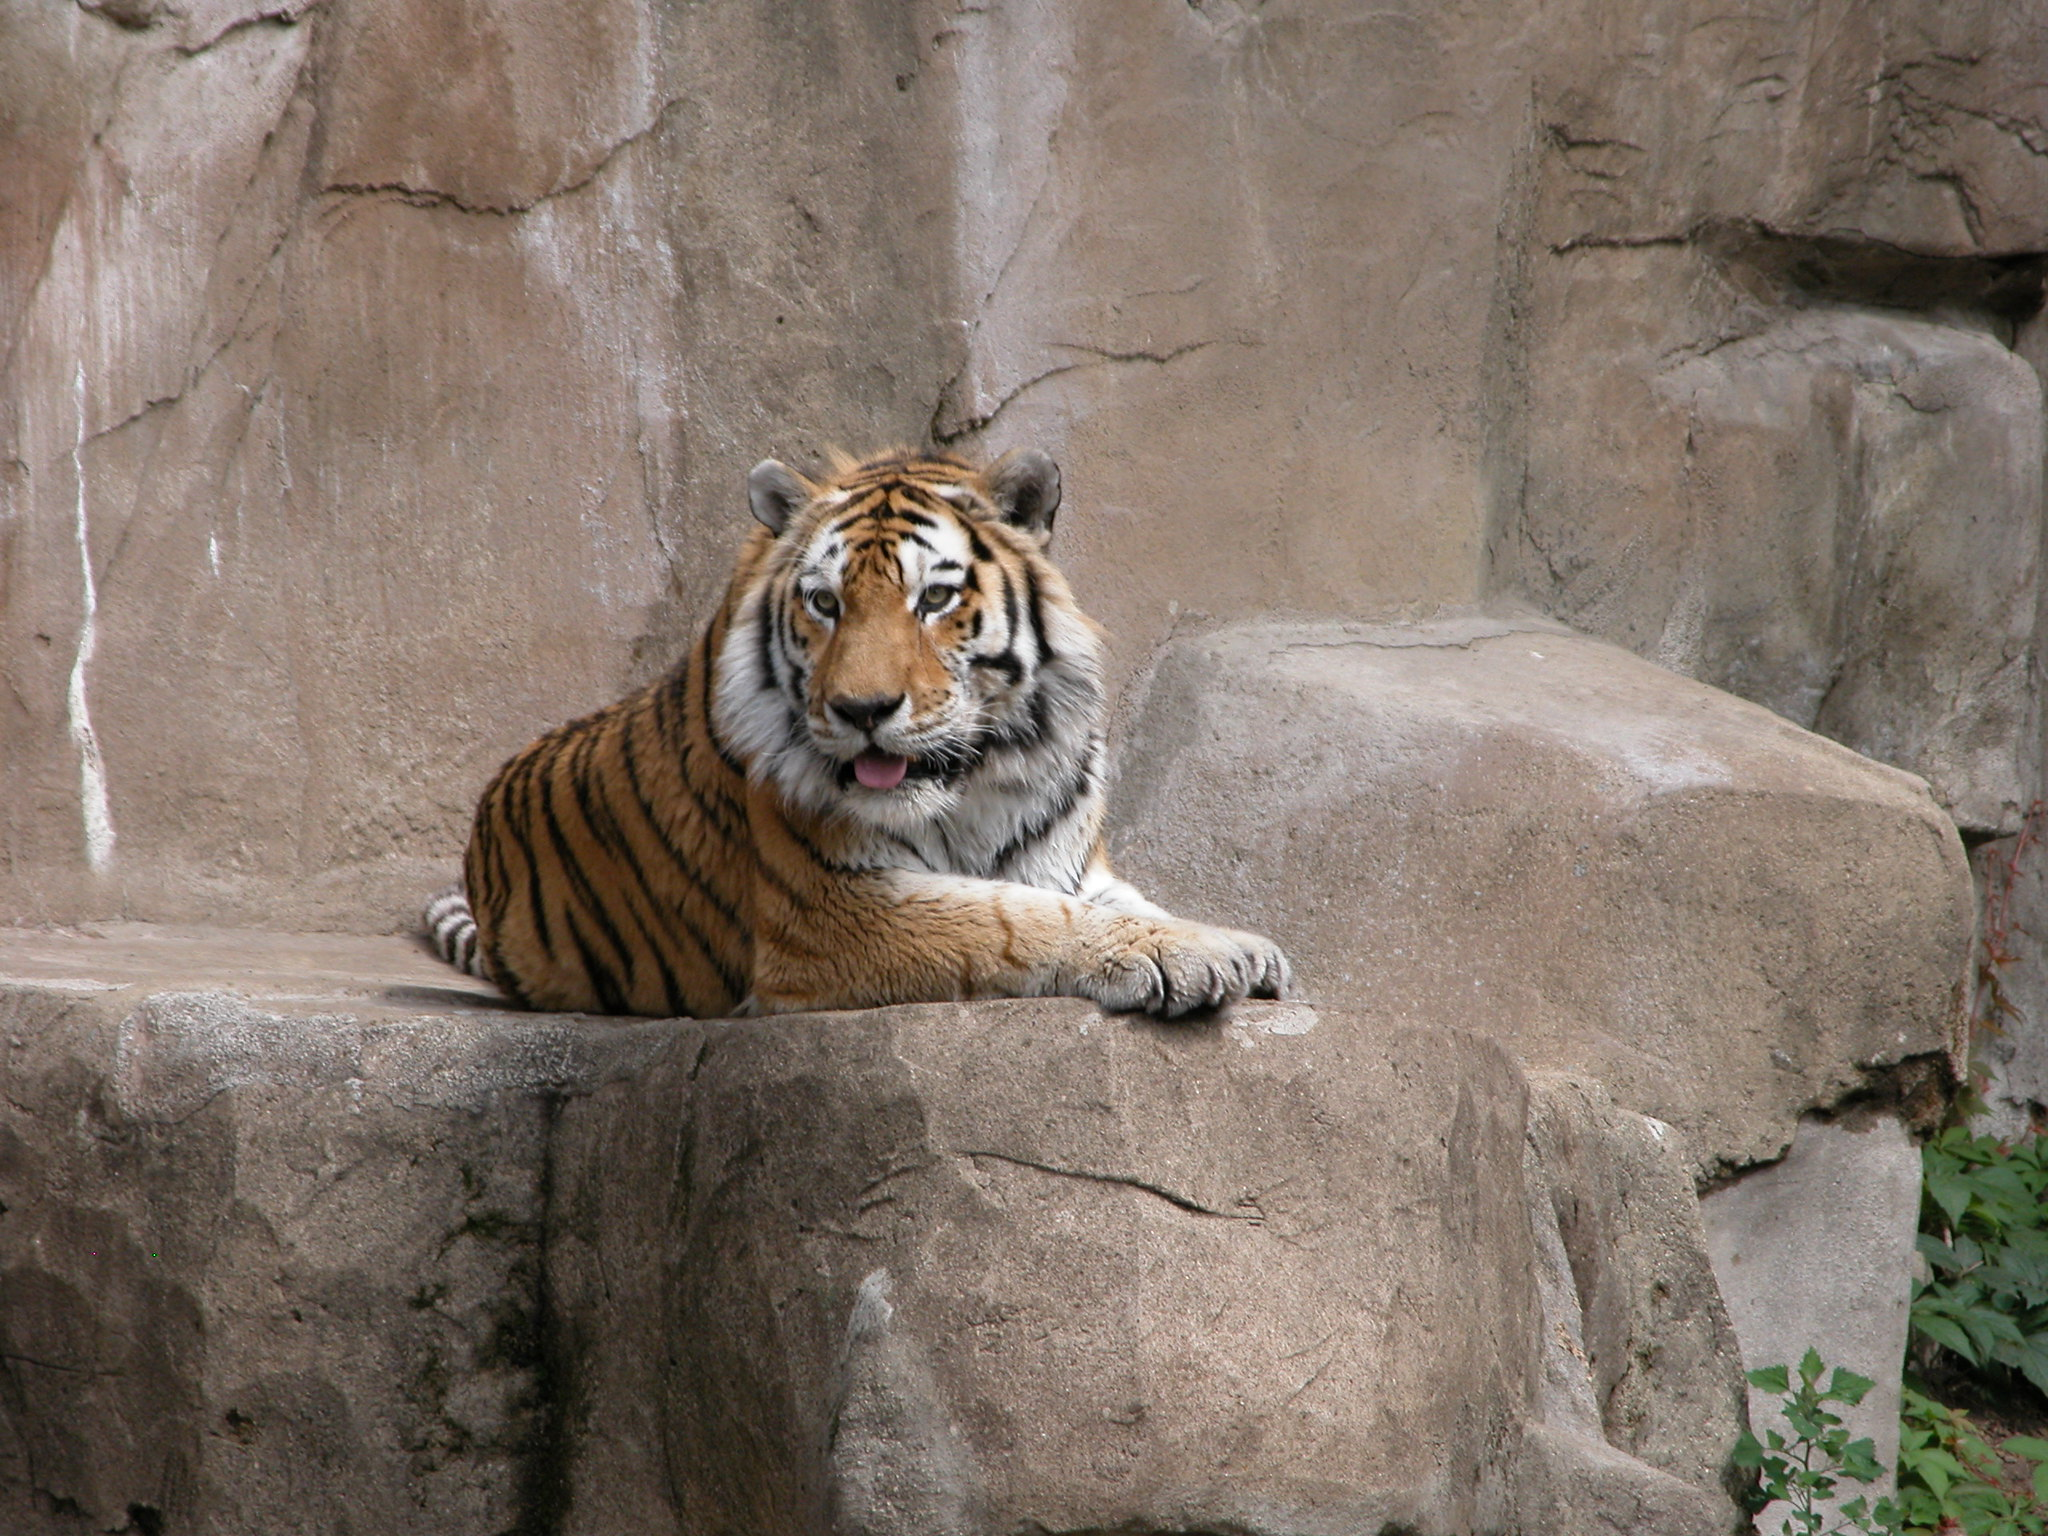Tiger: (431, 445, 1317, 1020)
